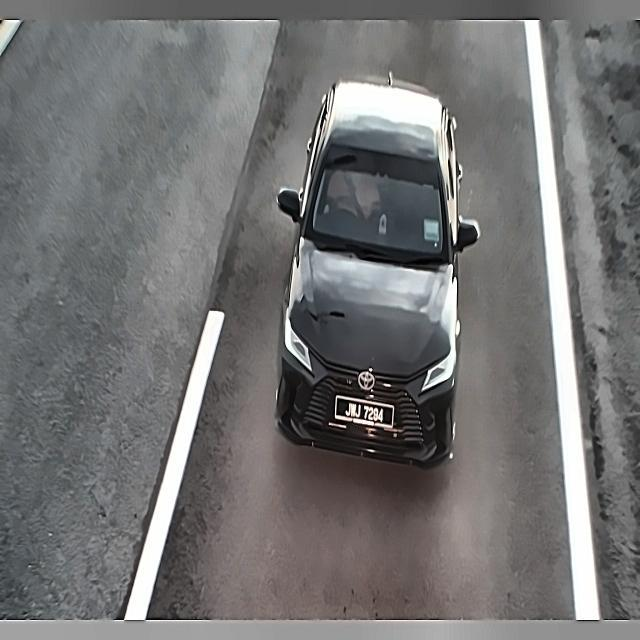car: (332, 386, 400, 432)
